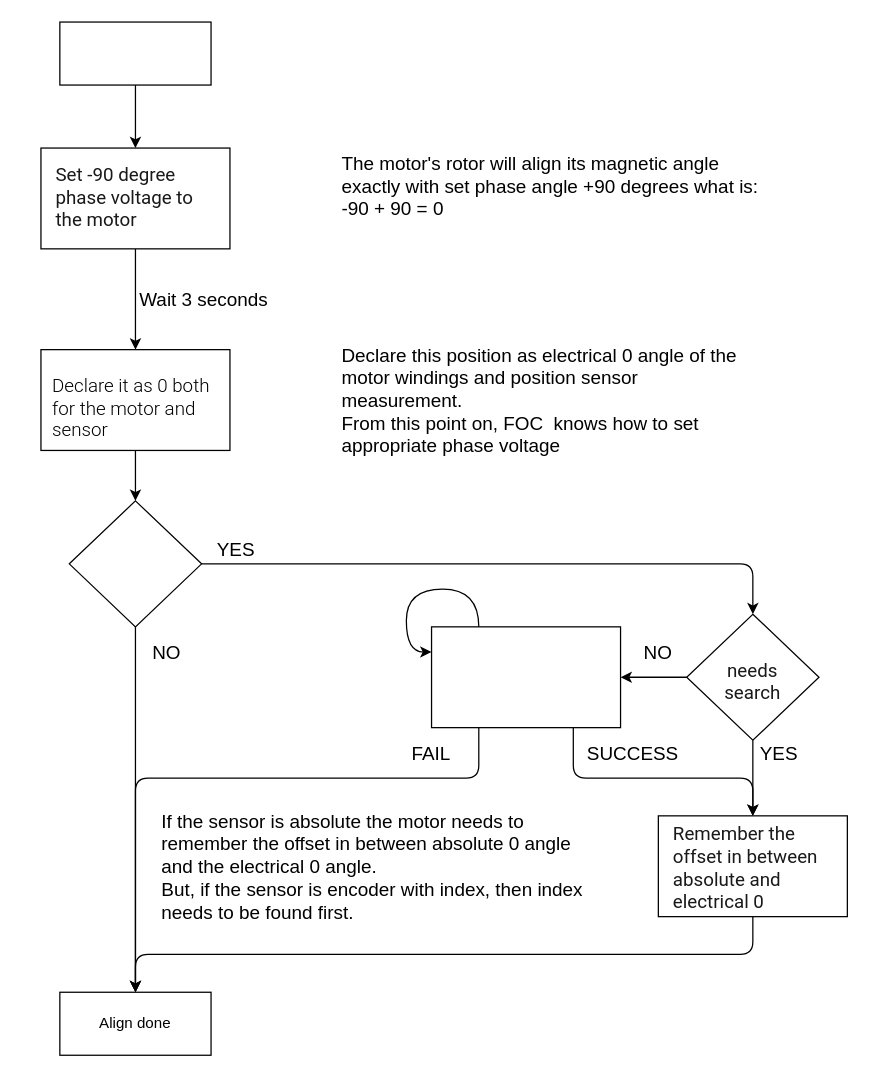
Image size: 869x1077. Some labels were removed from this diagram. Each missing label, with the box of its shape:
Align start: (59, 21, 211, 85)
Search for absolute 0 (constant velocity index search): (430, 626, 621, 728)
sensor has absolute 0: (68, 500, 202, 627)
